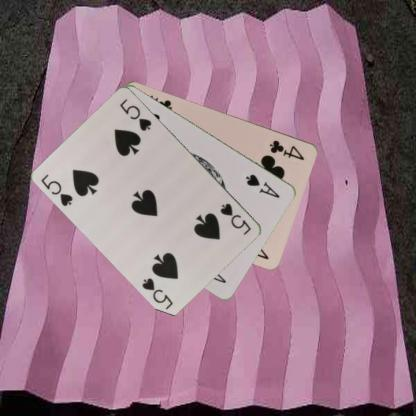4c: (267, 137, 306, 161)
5s: (38, 171, 75, 207), (217, 200, 253, 236)
As: (244, 171, 282, 199)
